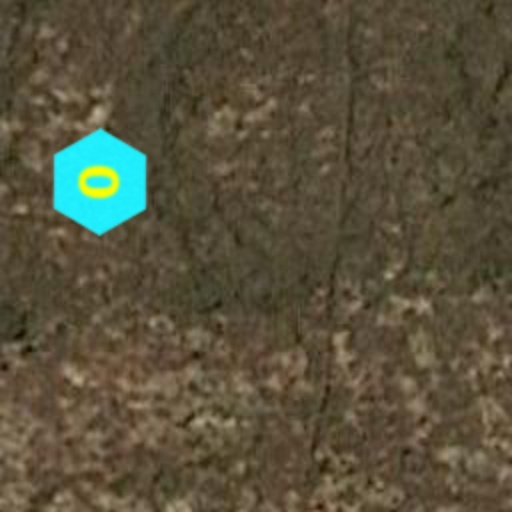hexagon: (46, 128, 154, 236)
